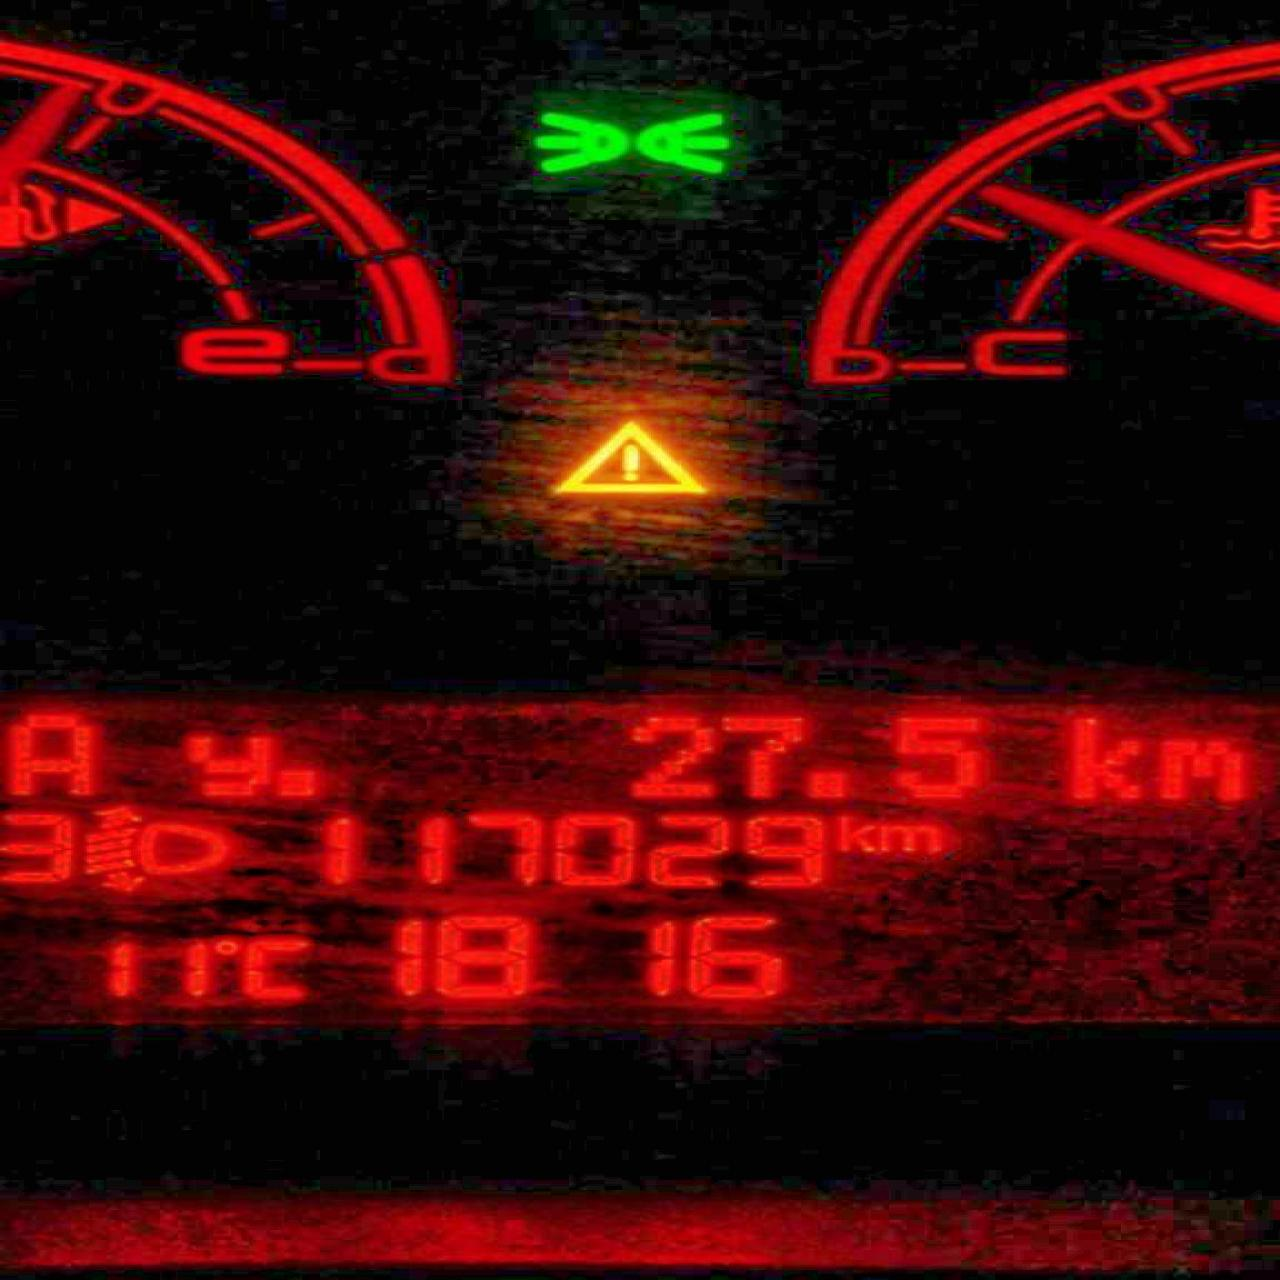-: (809, 765, 856, 799), (275, 765, 318, 796)
0: (551, 810, 638, 890)
1: (367, 912, 427, 999), (306, 808, 365, 887), (404, 809, 456, 886), (632, 912, 678, 999), (164, 933, 213, 999), (94, 937, 139, 999)
2: (618, 706, 719, 803), (638, 809, 738, 891)
3: (0, 808, 76, 886)
5: (880, 708, 987, 803)
6: (687, 905, 796, 1002)
7: (717, 704, 806, 799), (459, 805, 544, 887)
8: (431, 907, 536, 1002)
9: (740, 808, 829, 892)
X: (0, 702, 107, 797), (1057, 708, 1146, 803), (176, 726, 278, 796), (1153, 733, 1253, 803), (236, 933, 312, 1001), (873, 818, 953, 852), (831, 808, 873, 855)
odometer: (0, 680, 1278, 1024)
